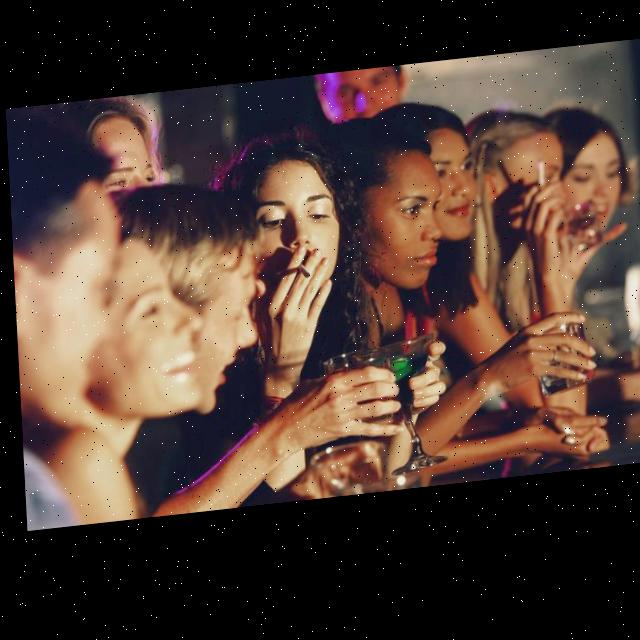cigarette: (535, 172, 544, 203), (296, 270, 307, 285)
